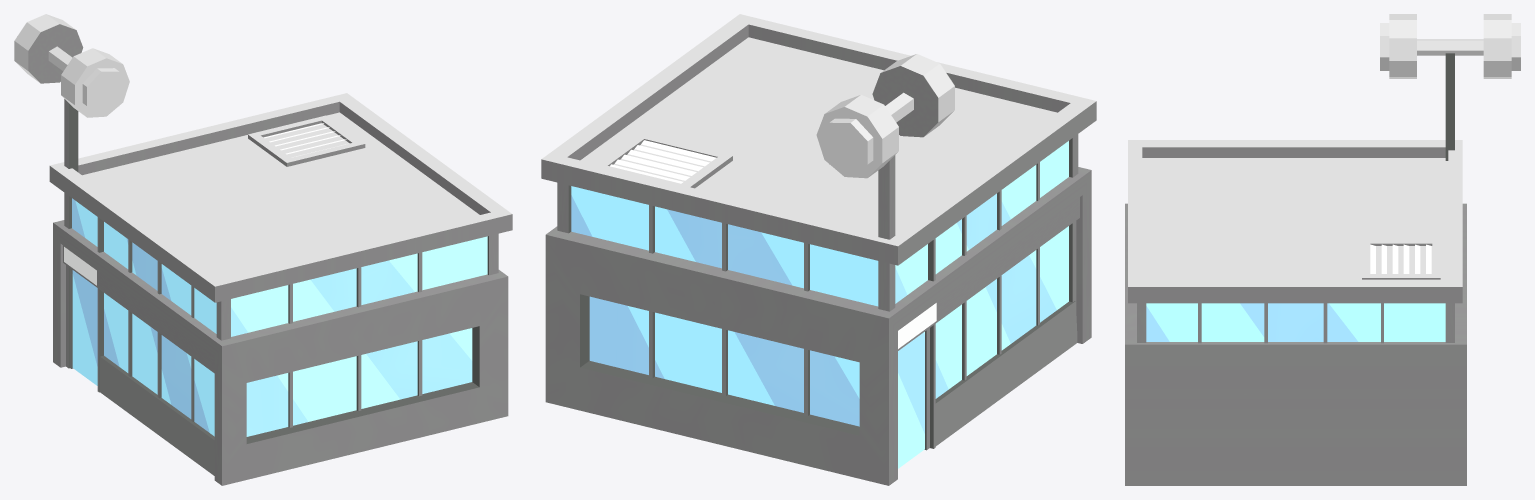
Rendered from tile_for_home_1x1.006 (2) gym.glb.
The picture shows the model from 3 angles, left to right: view 1: azimuth 30°, elevation 25°; view 2: azimuth 150°, elevation 25°; view 3: azimuth 270°, elevation 25°; orthographic projection. The views are drawn at different scales.
Parts seen in each view (by area): view 1: services.003; view 2: services.003; view 3: services.003.
Boxes of the visible parts, x1=… form: services.003: x1=14, y1=14, x2=512, y2=485; services.003: x1=541, y1=14, x2=1096, y2=485; services.003: x1=1125, y1=14, x2=1520, y2=485.
Size of the model in its own units: 6.25 by 6.4 by 6.86.
1 material, 1 textured.
